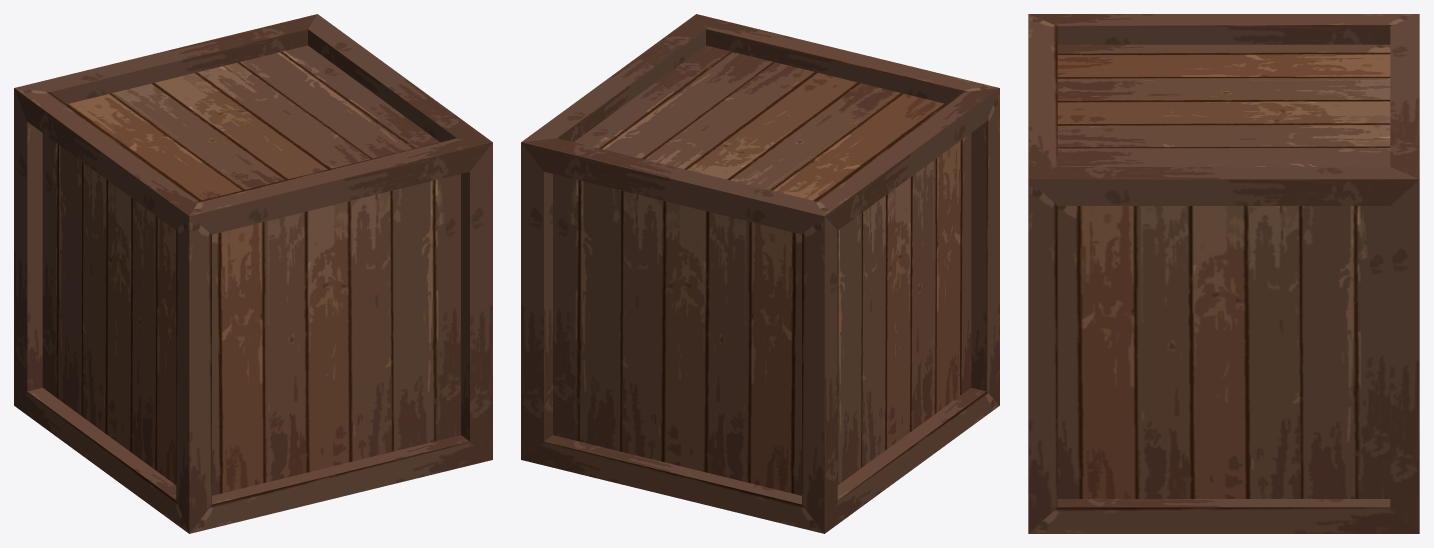
File: Crate0.fbx
3 views of the same model, side by side, from view 1: azimuth 30°, elevation 25°; view 2: azimuth 150°, elevation 25°; view 3: azimuth 270°, elevation 25° (orthographic). The views are drawn at different scales.
Visible parts, largest first — view 1: Cube; view 2: Cube; view 3: Cube.
Part boxes in pixels (x1=…): Cube: x1=14, y1=14, x2=492, y2=533; Cube: x1=521, y1=14, x2=999, y2=533; Cube: x1=1028, y1=14, x2=1419, y2=533.
Size of the model in its own units: 200 by 200 by 200.
